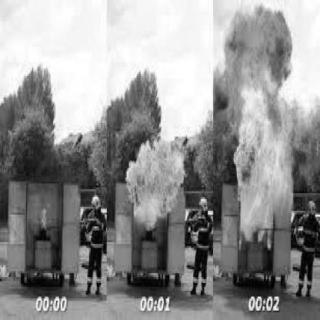Fire: (222, 2, 318, 246), (126, 130, 190, 232), (36, 196, 48, 236)
